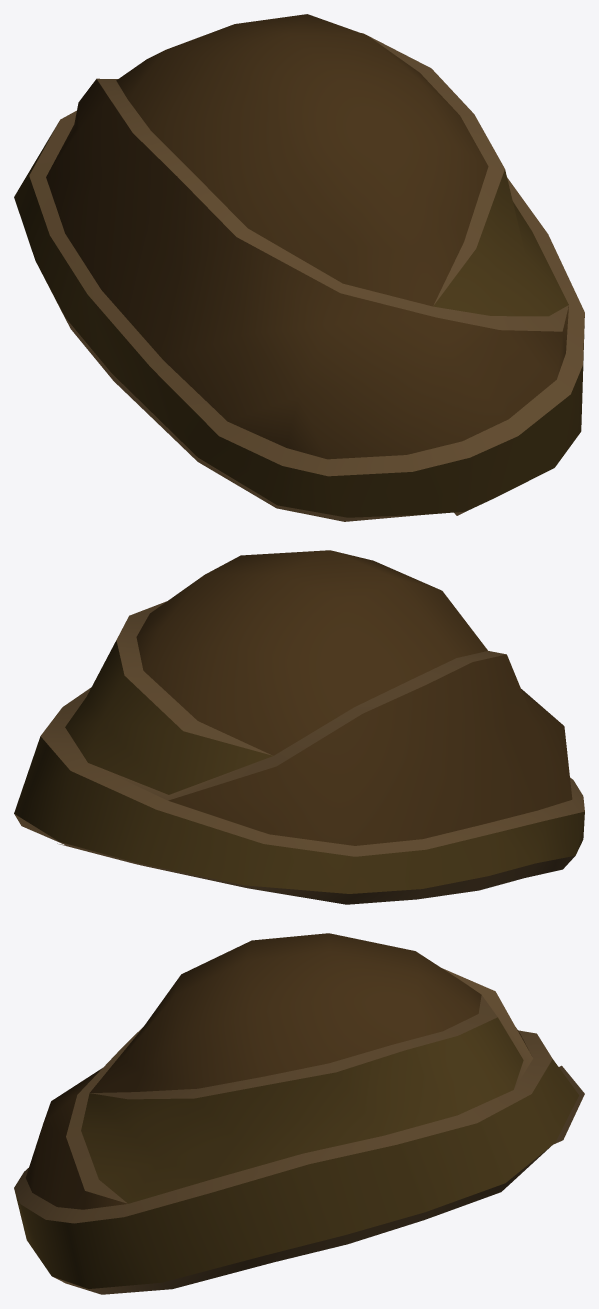
The model's file is OgreThrower_hat.fbx.
3 views of the same model, one above another, from view 1: azimuth 30°, elevation 25°; view 2: azimuth 150°, elevation 25°; view 3: azimuth 270°, elevation 25° (orthographic). The views are drawn at different scales.
Parts seen in each view (by area): view 1: OgreThrower_hat; view 2: OgreThrower_hat; view 3: OgreThrower_hat.
Boxes of the visible parts, left/top/right/bottom form: OgreThrower_hat: left=14, top=14, right=584, bottom=521; OgreThrower_hat: left=14, top=550, right=584, bottom=904; OgreThrower_hat: left=14, top=933, right=584, bottom=1294.
Size of the model in its own units: 23.93 by 33.24 by 19.22.
